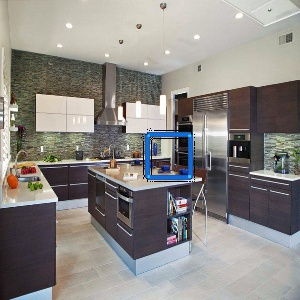square: (143, 129, 195, 182)
